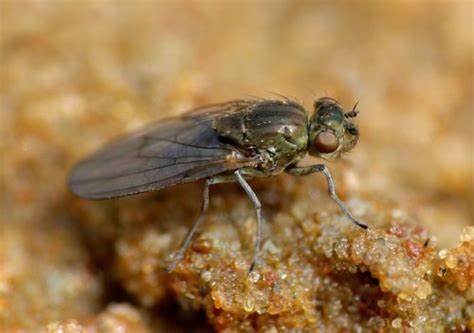Ephydridae: (67, 93, 370, 274)
